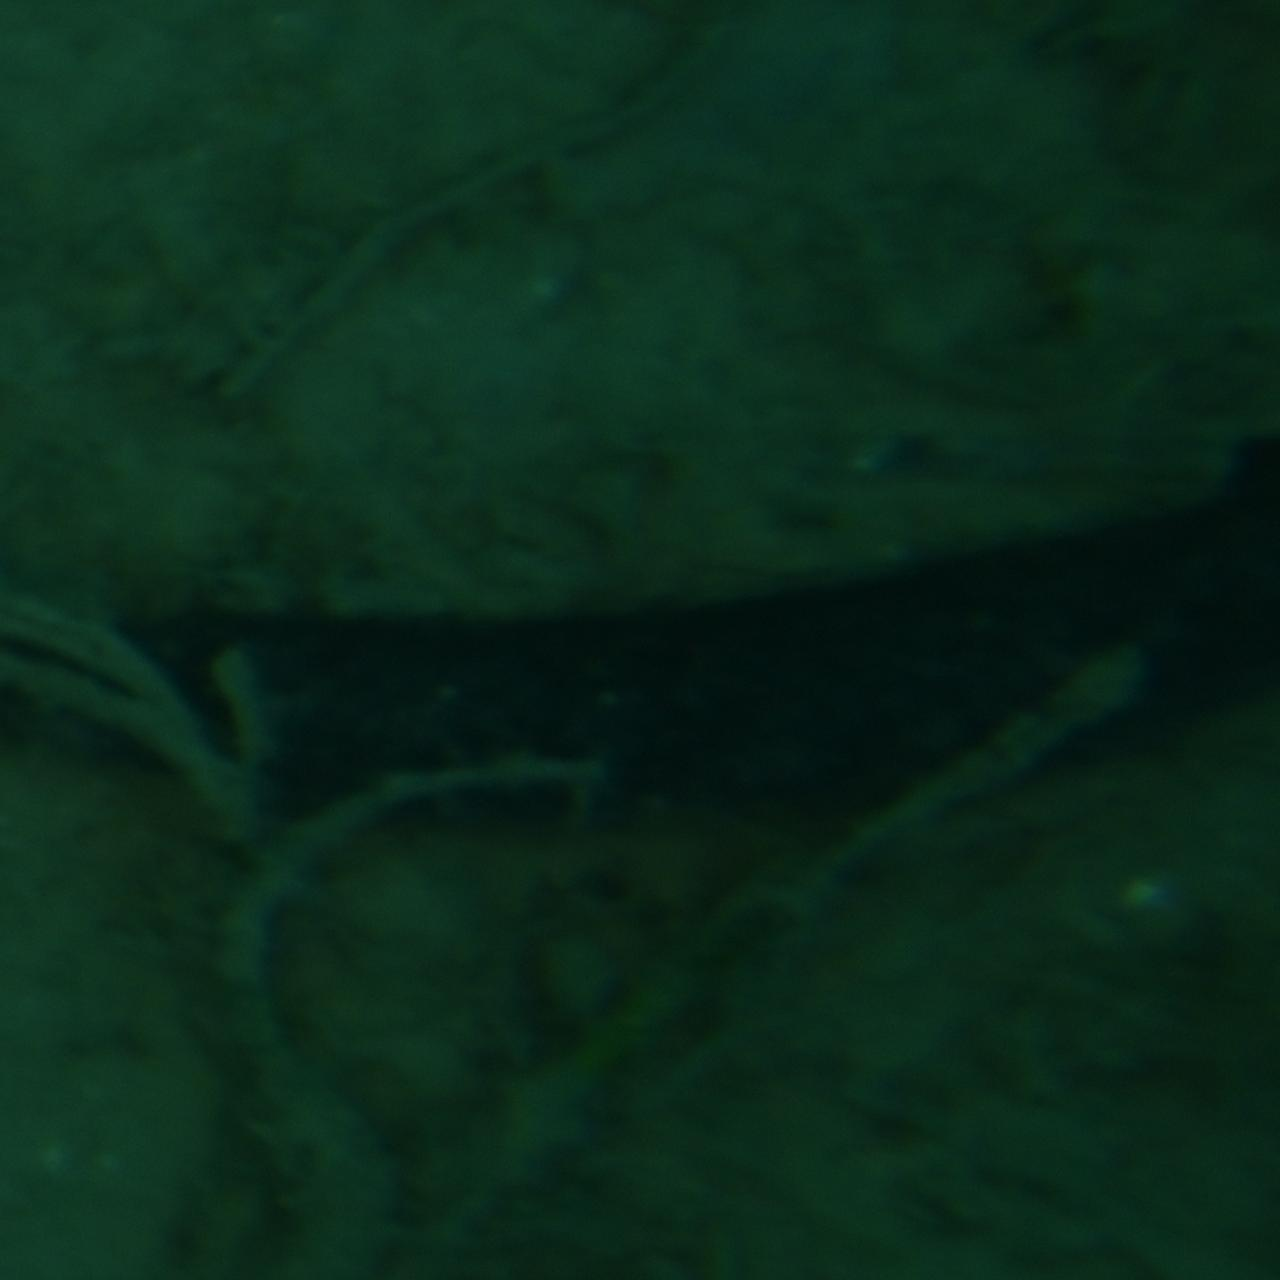Holothuria tubulosa: (51, 426, 1279, 854)
